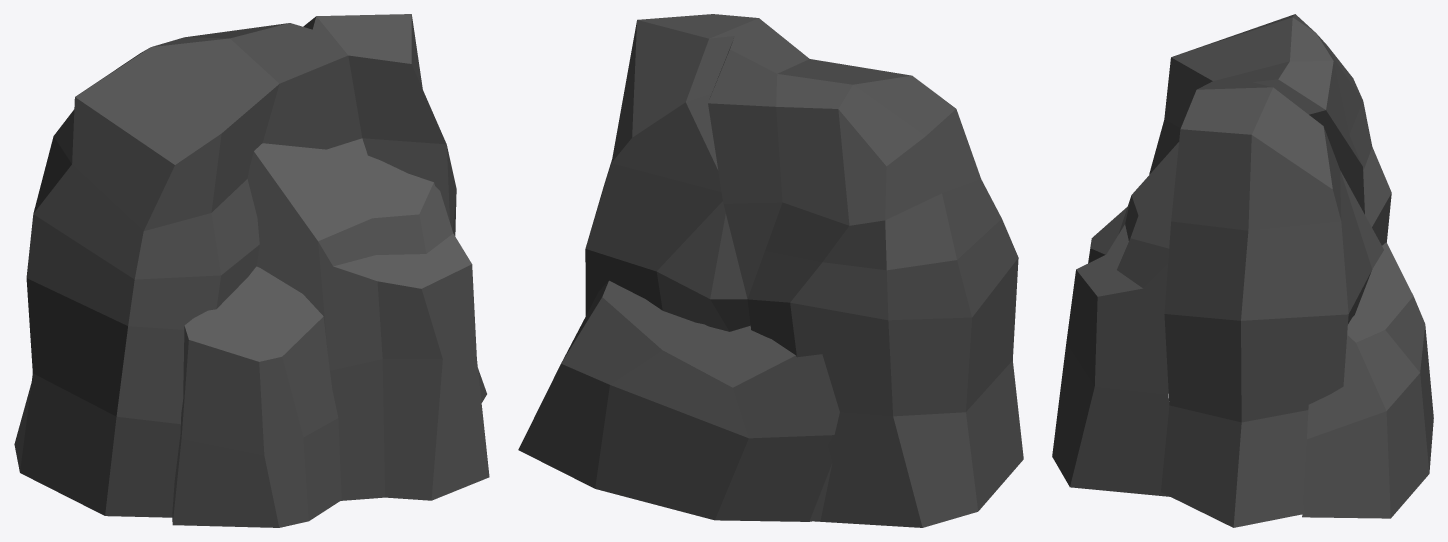
File: rock.fbx
3 renders of one model, left to right at view 1: azimuth 30°, elevation 25°; view 2: azimuth 150°, elevation 25°; view 3: azimuth 270°, elevation 25°, orthographic. The views are drawn at different scales.
Visible parts, largest first — view 1: rock; view 2: rock; view 3: rock.
Boxes of the visible parts, bbox=[...] form: rock: bbox=[14, 14, 489, 527]; rock: bbox=[518, 14, 1023, 527]; rock: bbox=[1052, 14, 1433, 527].
Size of the model in its own units: 312 by 277 by 255.
